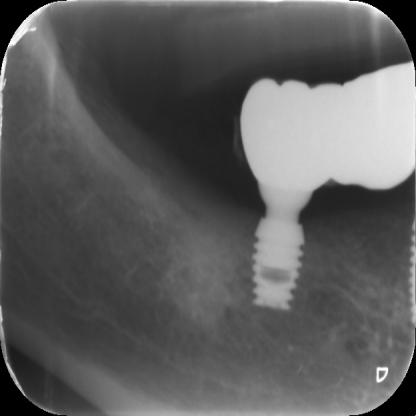Bicon: (250, 187, 316, 317)
